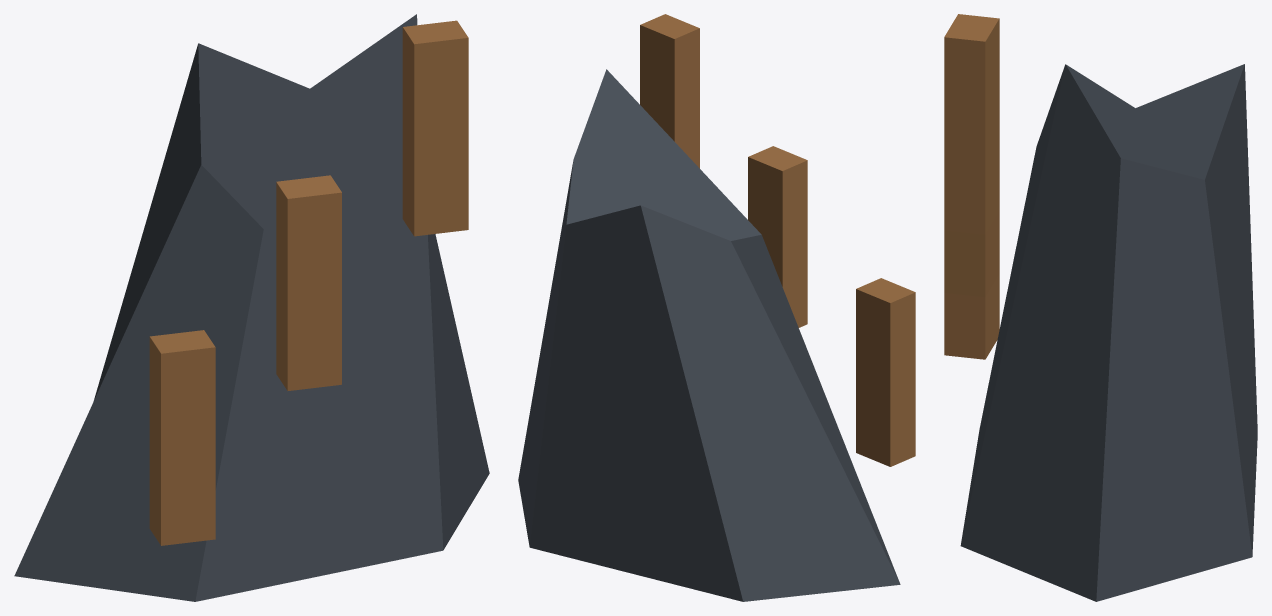
File: map-boundaries-v5__iron_01.glb
The picture shows the model from 3 angles, left to right: view 1: azimuth 30°, elevation 25°; view 2: azimuth 150°, elevation 25°; view 3: azimuth 270°, elevation 25°; orthographic projection. The views are drawn at different scales.
Visible parts, largest first — view 1: iron_01; view 2: iron_01; view 3: iron_01.
Part boxes in pixels (x1,y1,x2,y2): iron_01: (14, 14, 489, 601); iron_01: (518, 14, 915, 601); iron_01: (944, 14, 1257, 601).
Size of the model in its own units: 1.13 by 1.21 by 0.6622.
